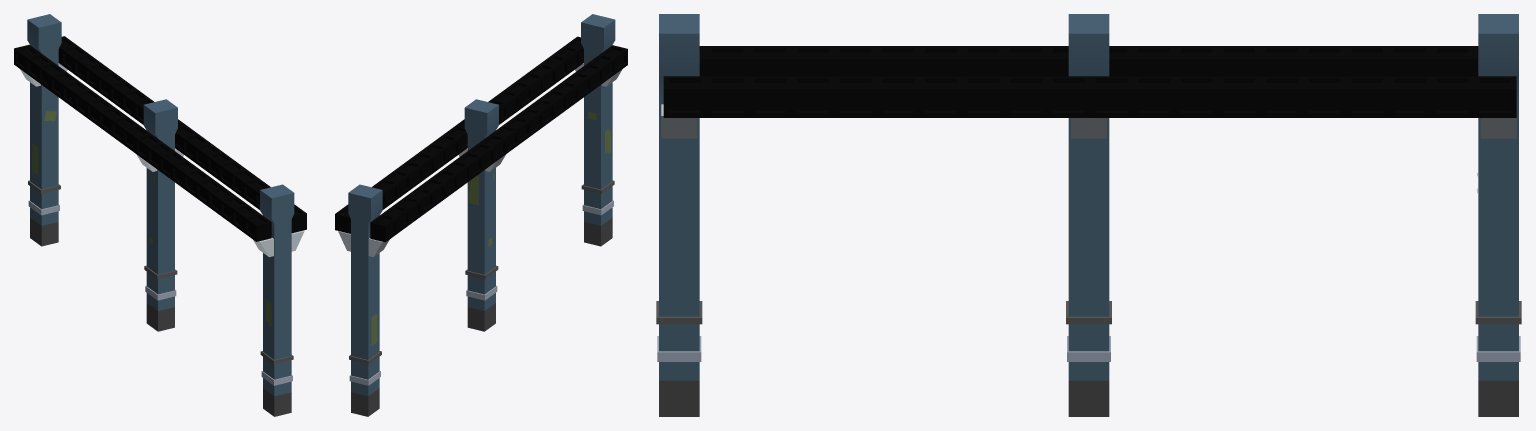
File: foundation.fbx
3 views of the same model, side by side, from view 1: azimuth 30°, elevation 25°; view 2: azimuth 150°, elevation 25°; view 3: azimuth 270°, elevation 25° (orthographic). The views are drawn at different scales.
Parts seen in each view (by area): view 1: foundation2; view 2: foundation2; view 3: foundation2.
Boxes of the visible parts, box(x1,y1,x2,y2) form: foundation2: box(14, 14, 306, 416); foundation2: box(335, 14, 627, 416); foundation2: box(656, 14, 1521, 416).
Size of the model in its own units: 134 by 554 by 1126.
